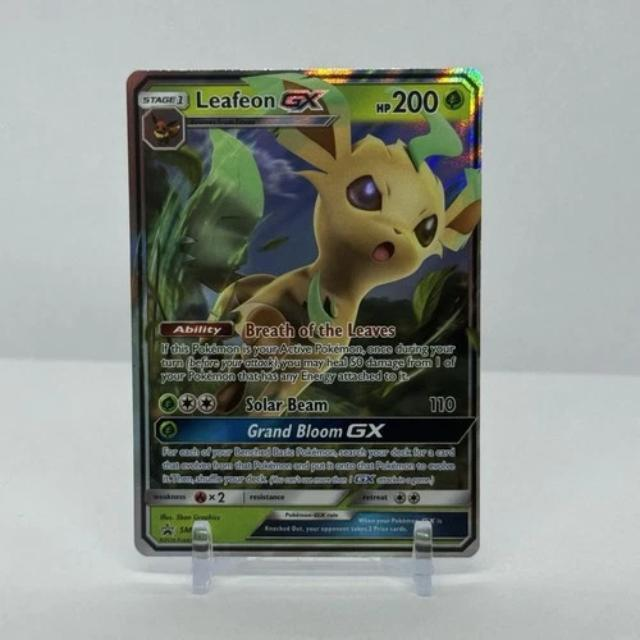Card: (120, 61, 488, 566)
Name: (187, 83, 334, 114)
